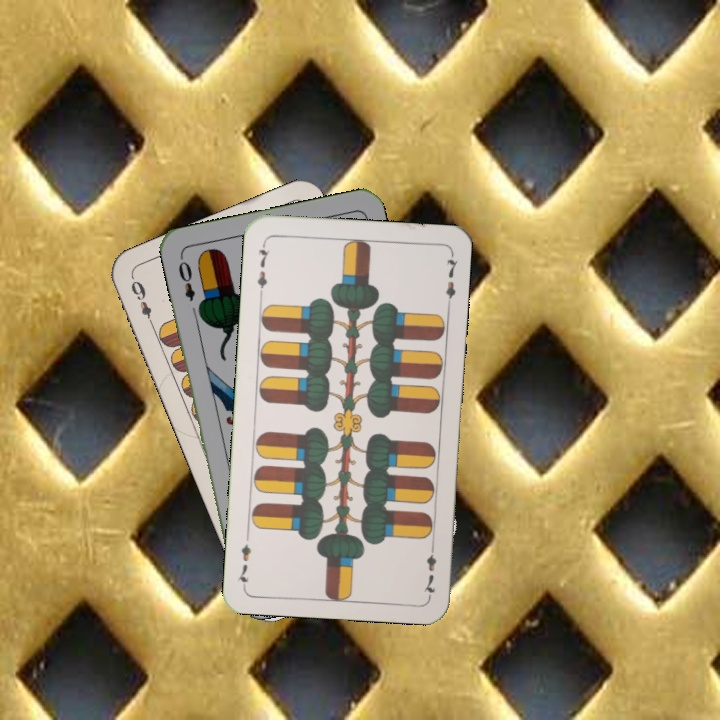E7: (420, 539, 439, 598), (253, 239, 271, 298)
E9: (126, 273, 157, 330)
EO: (174, 252, 198, 304)
